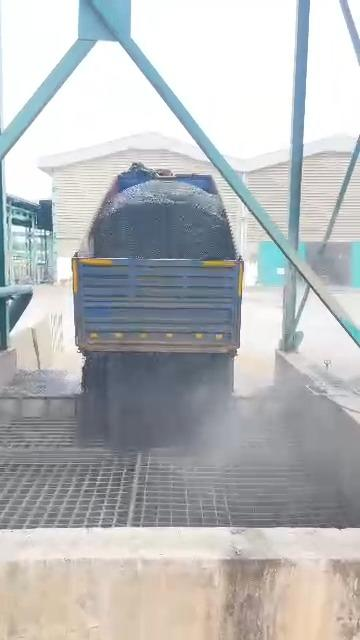gravel: (82, 354, 232, 449), (82, 170, 234, 257), (0, 370, 64, 397)
